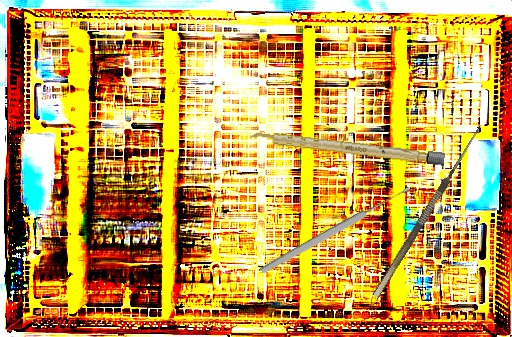Hook Surgical: (363, 118, 485, 299)
Scalpel Handle: (249, 129, 446, 166)
Surgical Spoon: (259, 184, 412, 276)
